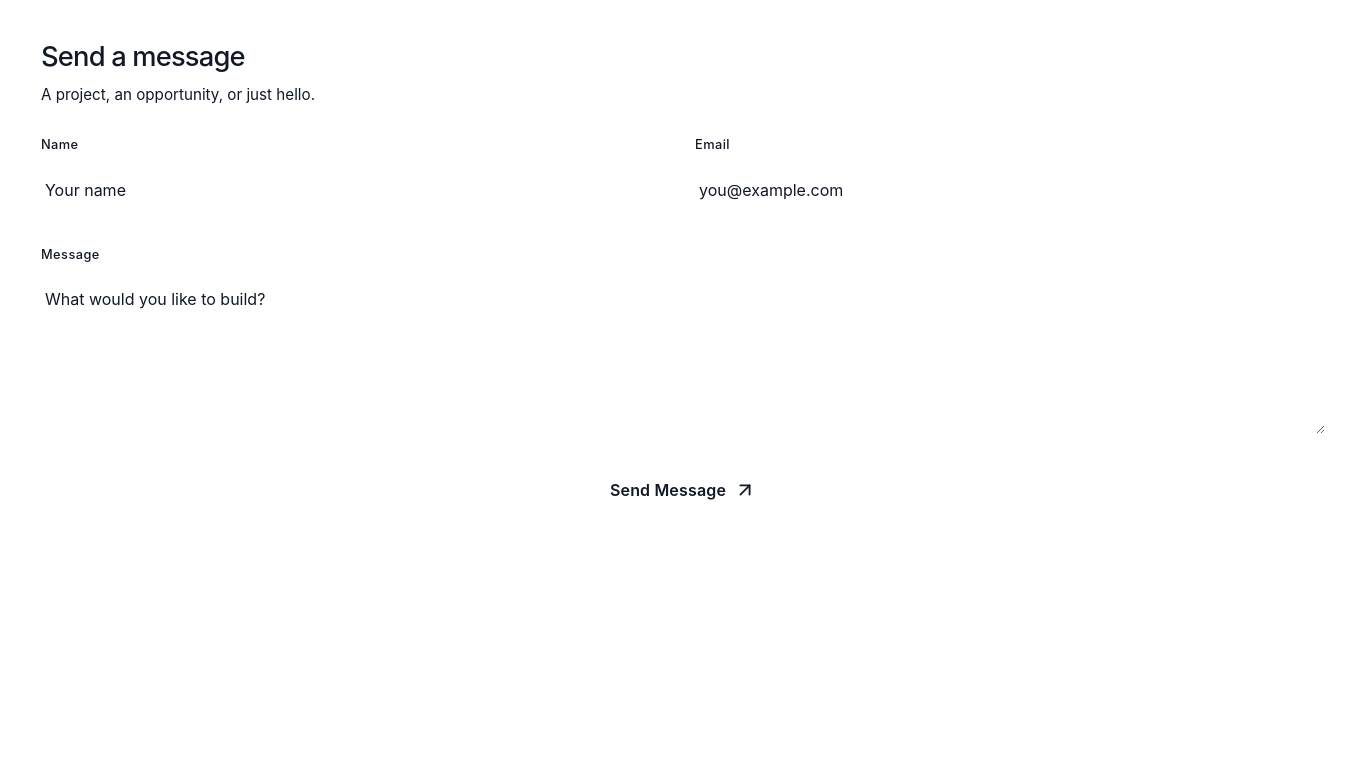
ContactForm › shows the error UI and retains input when EmailJS settings are absent
Type "John Doe" into the field labelled "Name" at (356, 190), box [41,164,671,216]
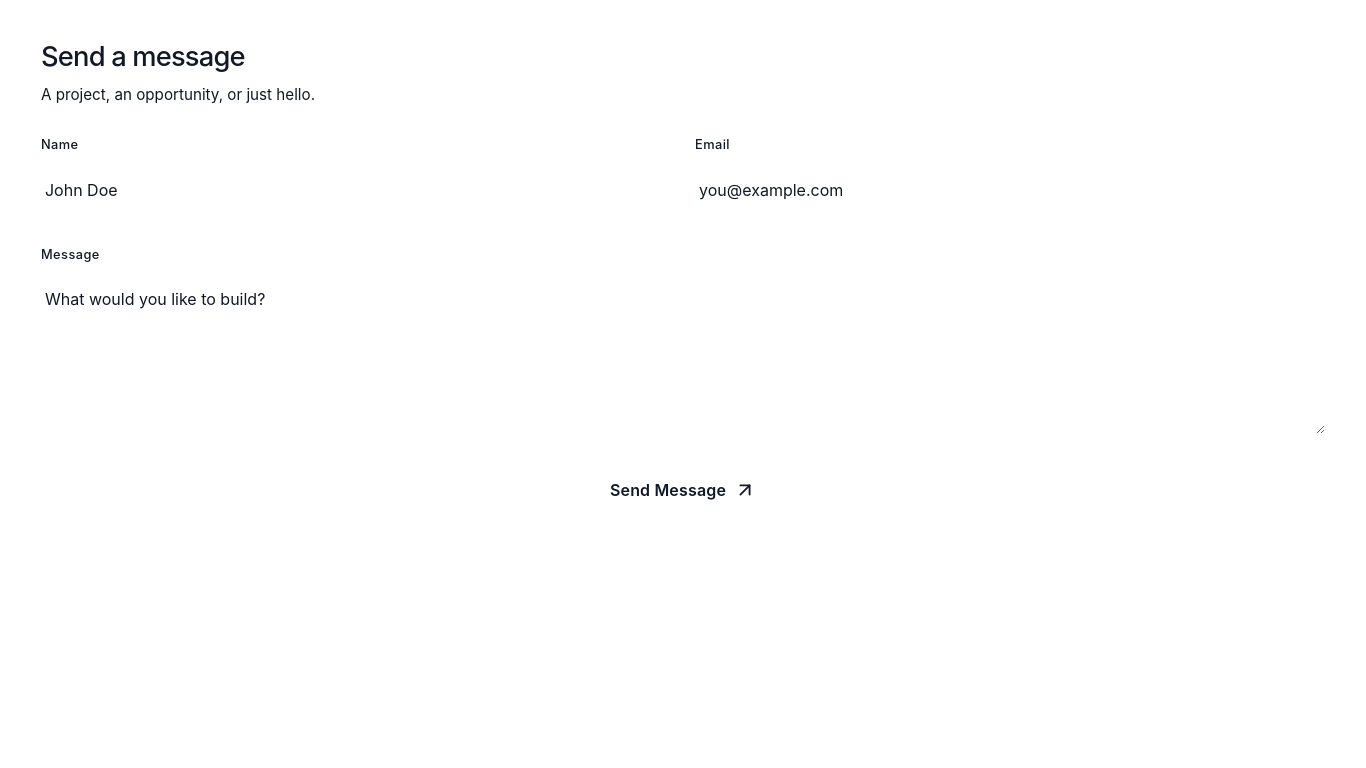
Type "john@example.com" into the field labelled "Email" at (1010, 190), box [695,164,1325,216]
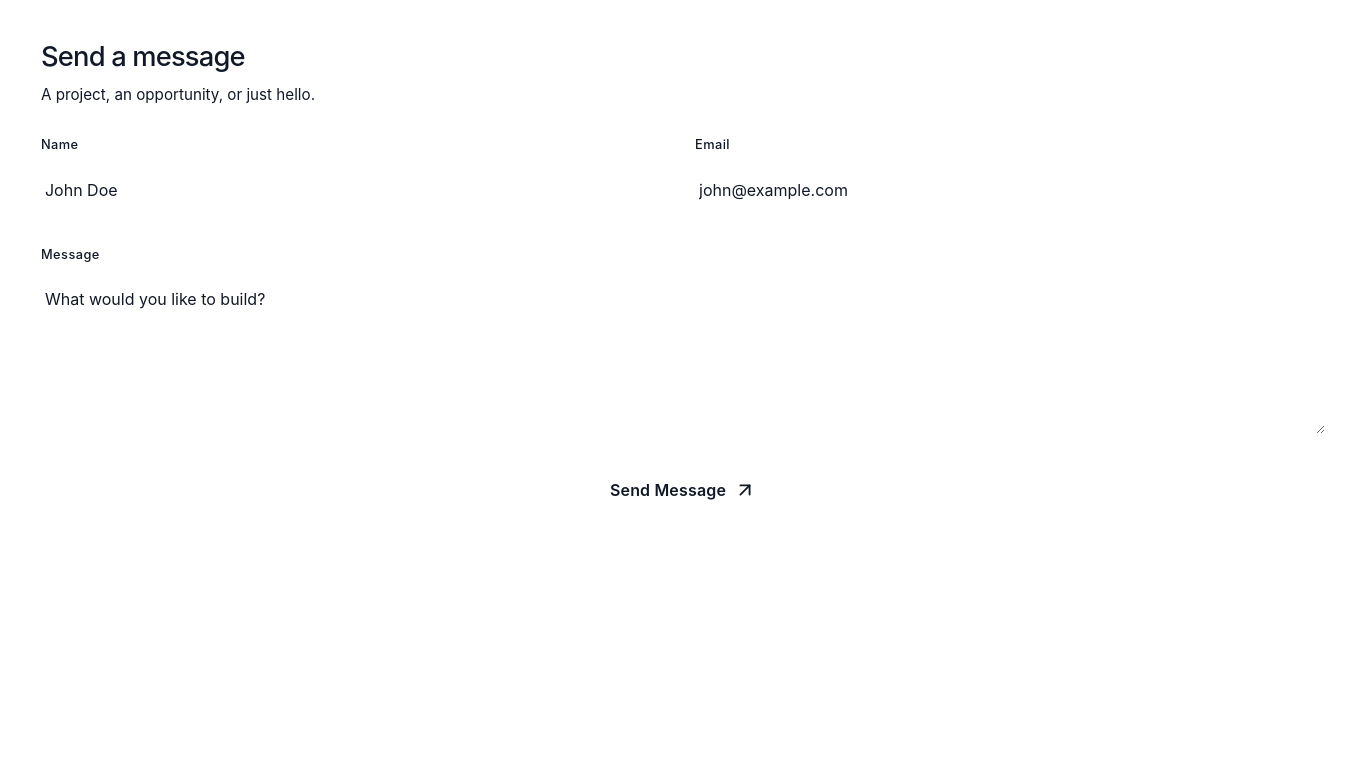
Type "Hello world" into the text box labelled "Message" at (683, 354), box [41,274,1325,434]
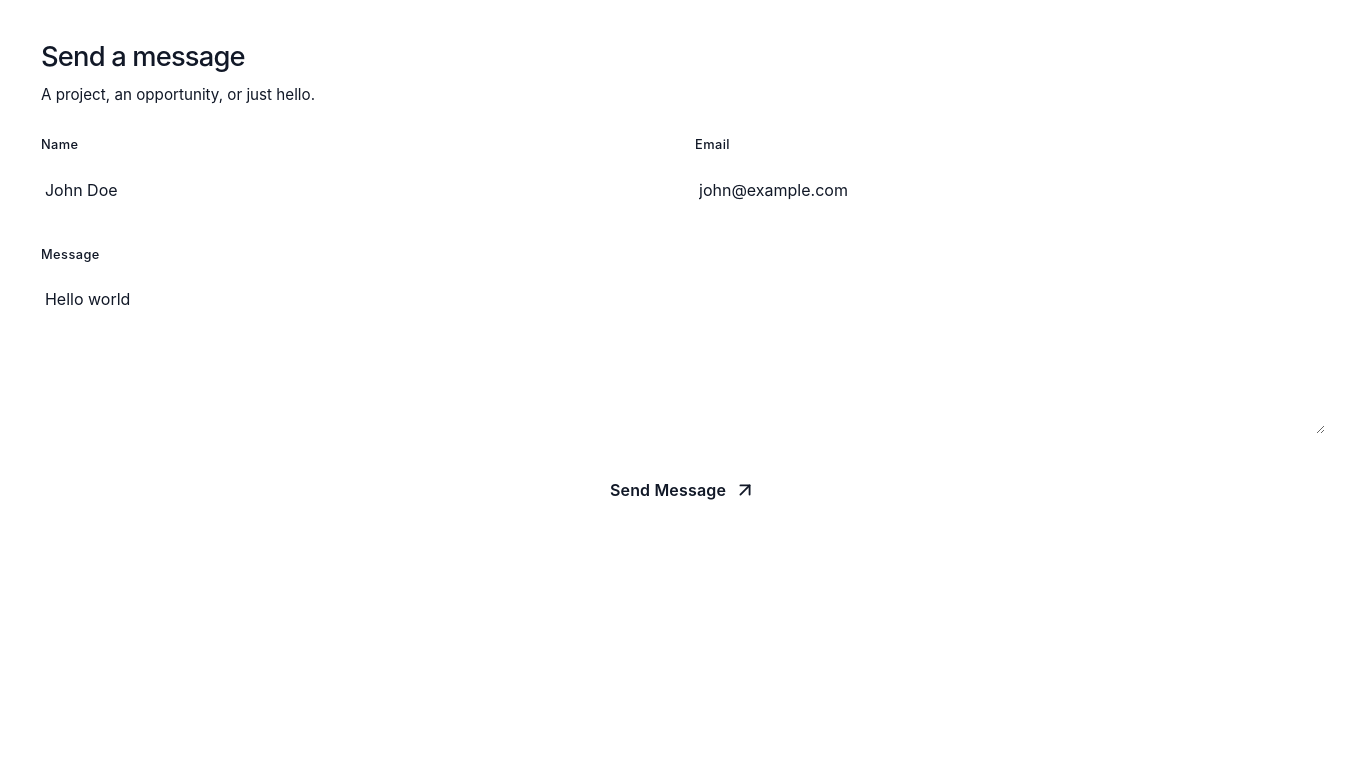
Click the button "Send Message" at (683, 490), box [41,462,1325,518]
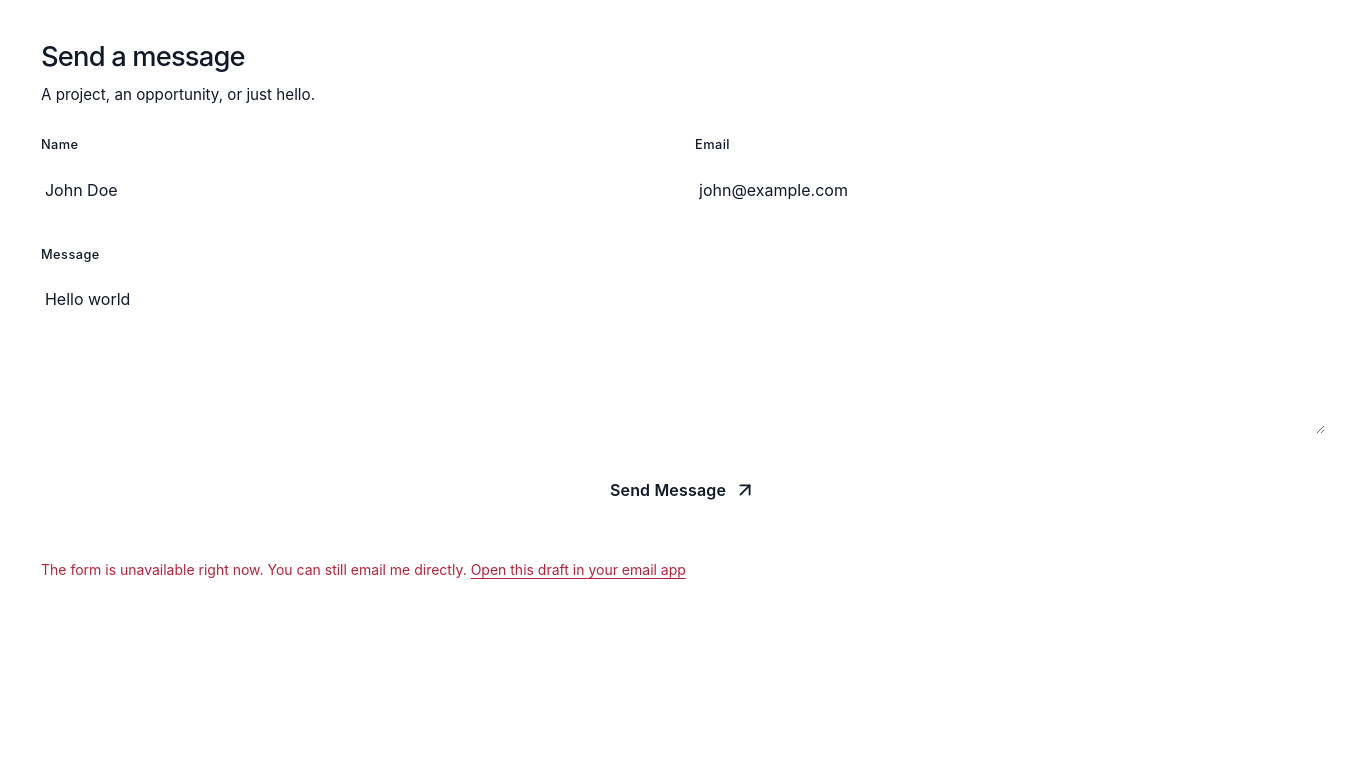
expect the message shows "The form is unavailable right now.": met, box [41,561,467,578]
